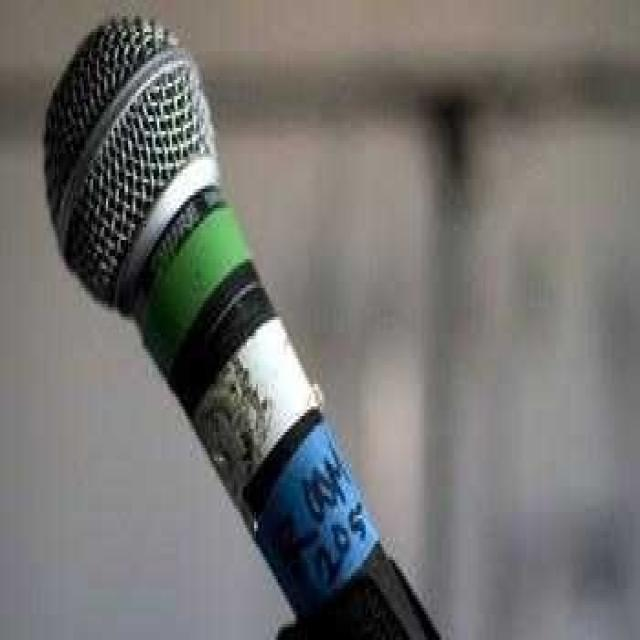microphone: (48, 17, 421, 634), (45, 19, 214, 309)
